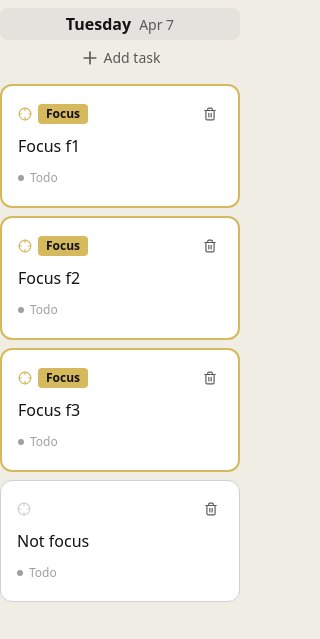
Scenario: when 3 focus tasks exist, clicking focus toggle on non-focus task shows error under that card
Click the button named "Toggle focus" at (24, 509), box [17,502,31,516]
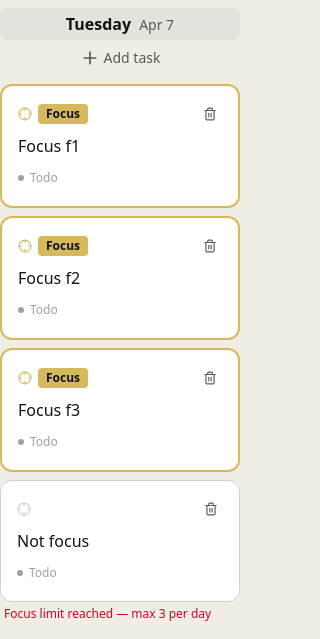
Result: the text "Focus limit reached — max 3 per day" is shown at [0,606,240,622]
